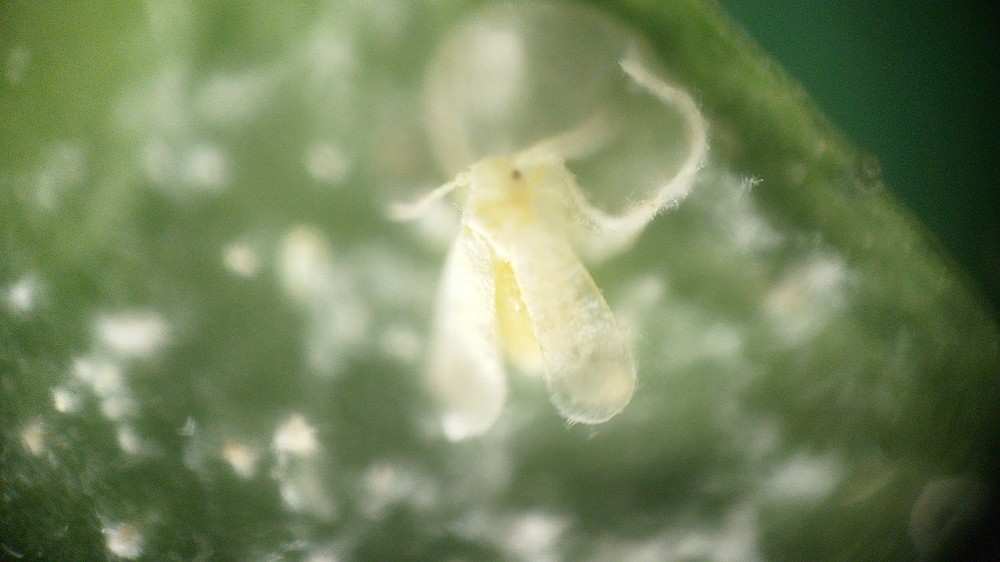Mosca Blanca: (360, 125, 681, 448)
